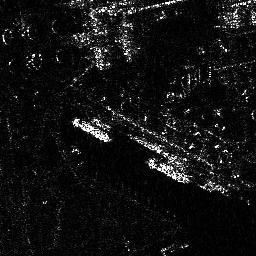ship: (146, 155, 192, 185), (71, 115, 111, 143)
